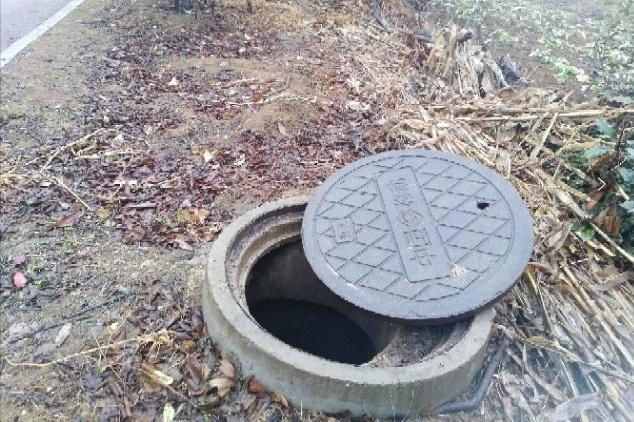wellcover: (202, 140, 536, 417)
